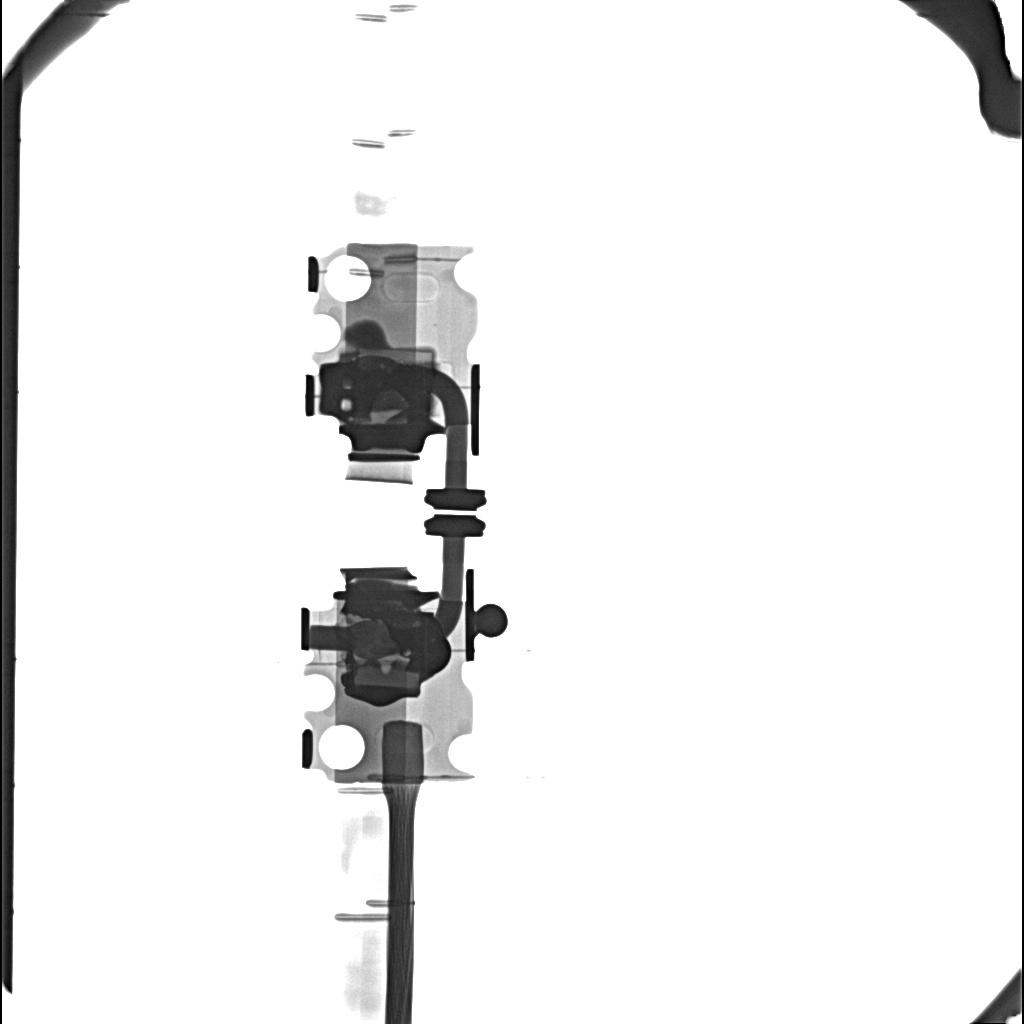气孔: (355, 347, 434, 366)
气泡: (370, 411, 400, 424)
水纹: (352, 369, 433, 409), (392, 620, 449, 675)
